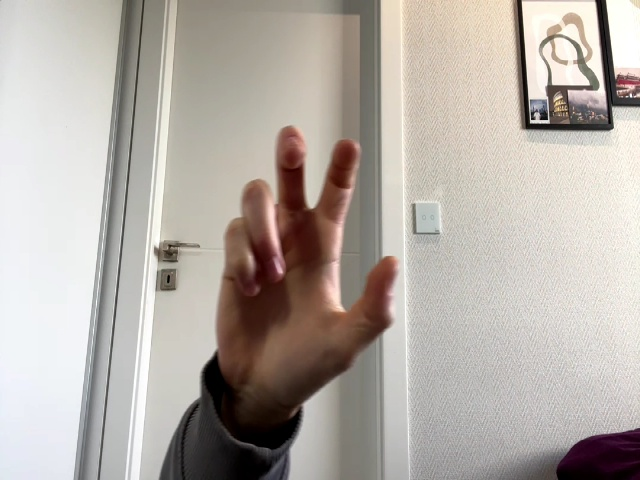CH: (216, 126, 400, 398)
